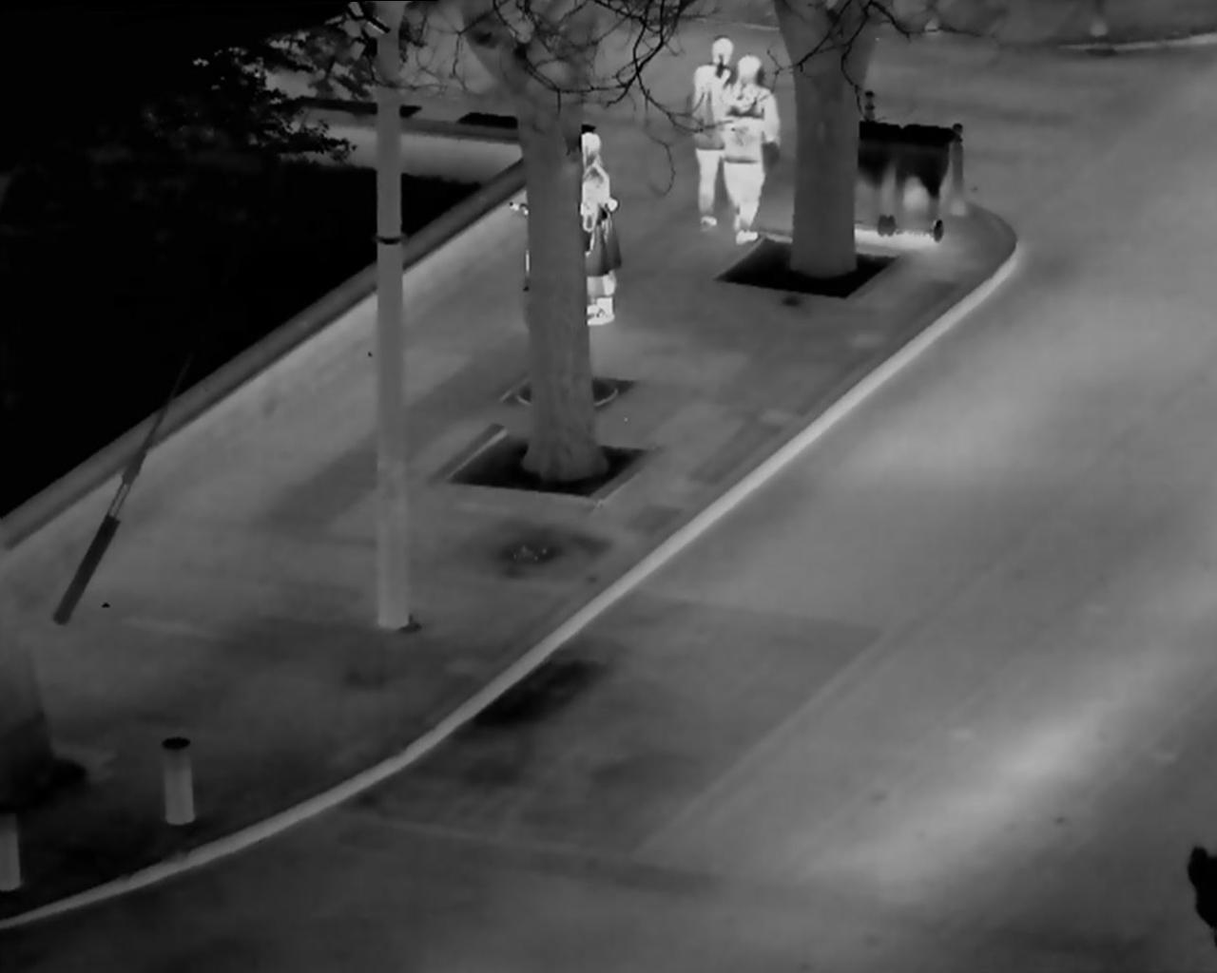person: (568, 131, 641, 325), (685, 31, 742, 231), (727, 53, 781, 243)
